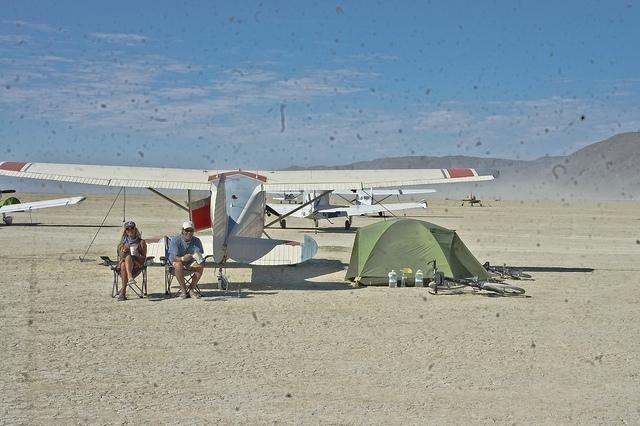bicycle: (424, 262, 525, 297), (480, 262, 534, 282)
